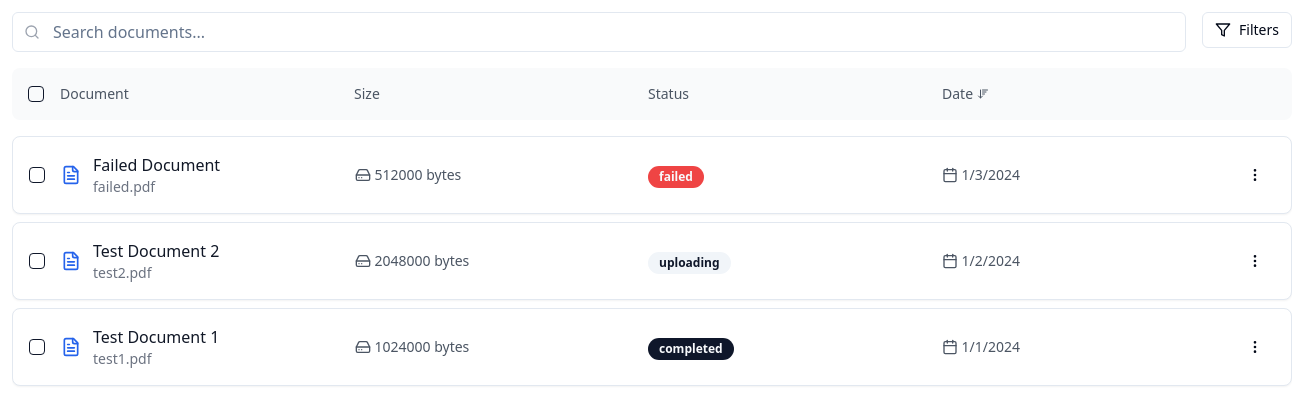
Test: DocumentList Component › filters documents by search query
Type "Test Document 1" into the field with placeholder "Search documents...".
click(599, 32); type("Test Document 1")  # box [12,12,1186,52]
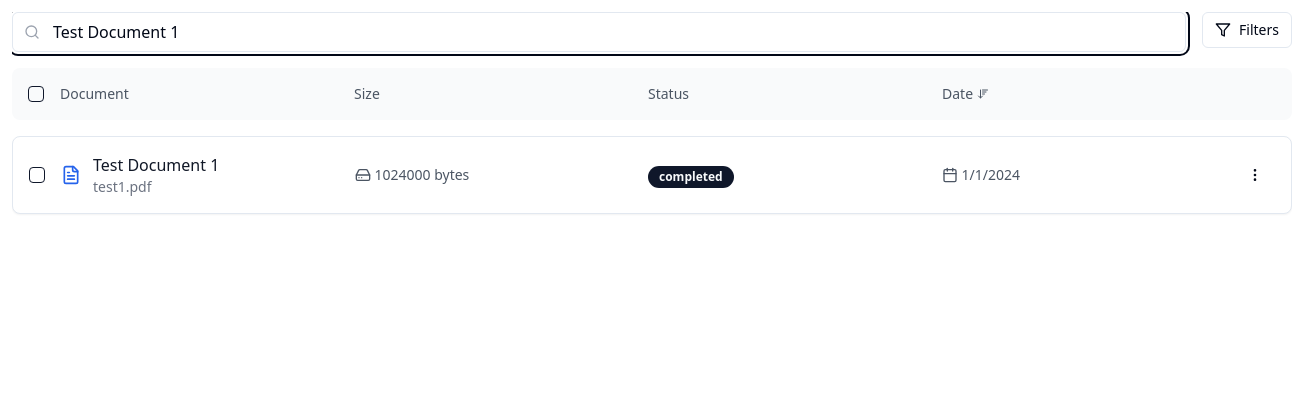
expect the text "Test Document 1" is shown: met, box [93,153,219,177]
expect the text "Test Document 2" is gone: met
